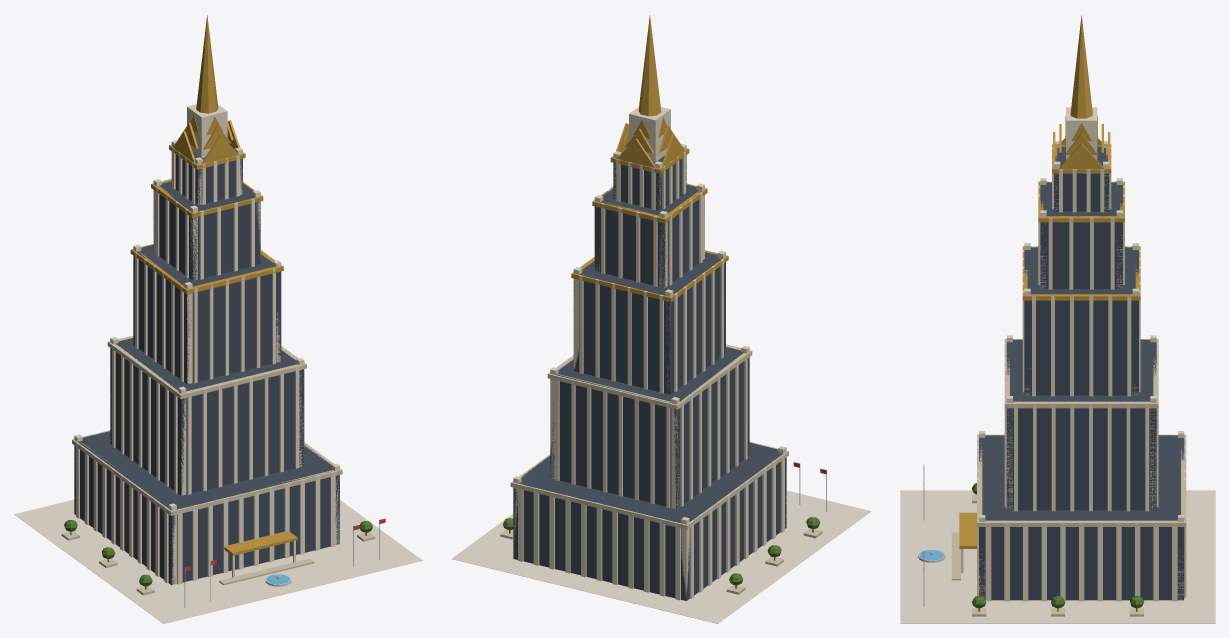
The model's file is mega_skylinetower_3.glb.
3 views of the same model, side by side, from view 1: azimuth 30°, elevation 25°; view 2: azimuth 150°, elevation 25°; view 3: azimuth 270°, elevation 25° (orthographic). The views are drawn at different scales.
Visible parts, largest first — view 1: mega_skylinetower_3; view 2: mega_skylinetower_3; view 3: mega_skylinetower_3.
Part boxes in pixels (<box>): mega_skylinetower_3: <box>14,15,422,623</box>; mega_skylinetower_3: <box>451,15,871,623</box>; mega_skylinetower_3: <box>900,15,1215,623</box>.
Size of the model in its own units: 80 by 152 by 80.
